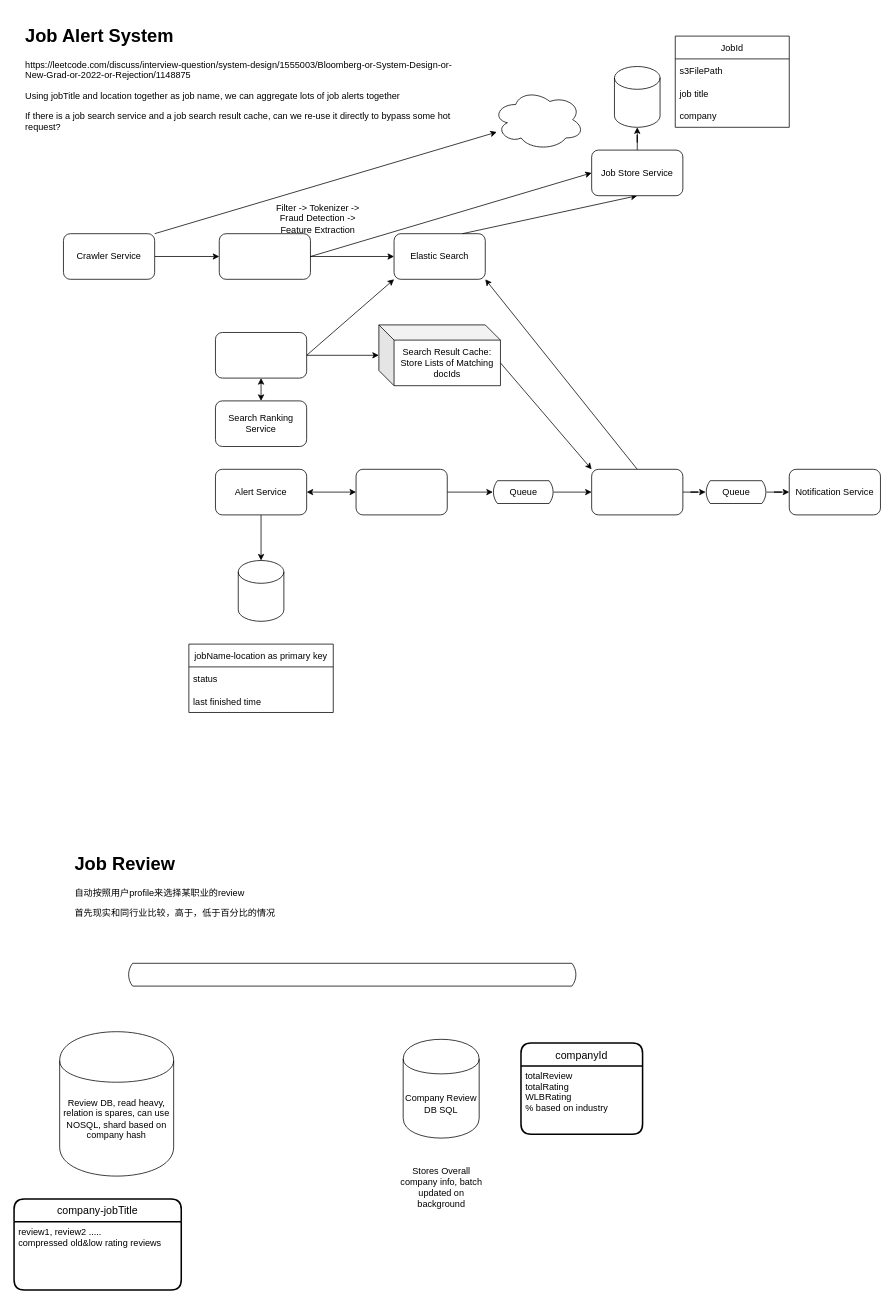
Image size: 894x1303. Some labels were removed from this diagram. The shapes that lost their labels are listed below. From the top down, each one's centre as x and y in pixels, then its label:
At (637,96): "Jobs DB NOSQL".
At (538,119): "S3".
At (264,256): "Job Ingest Service".
At (261,355): "Search Service".
At (401,492): "Alert Submission Service".
At (637,492): "Feed Generation Service".
At (261,590): "Alert Rule SQL".
At (351,974): "Review intake Pipeline: Abuse Detection -> Feature Extraction -> Review Ranker".
